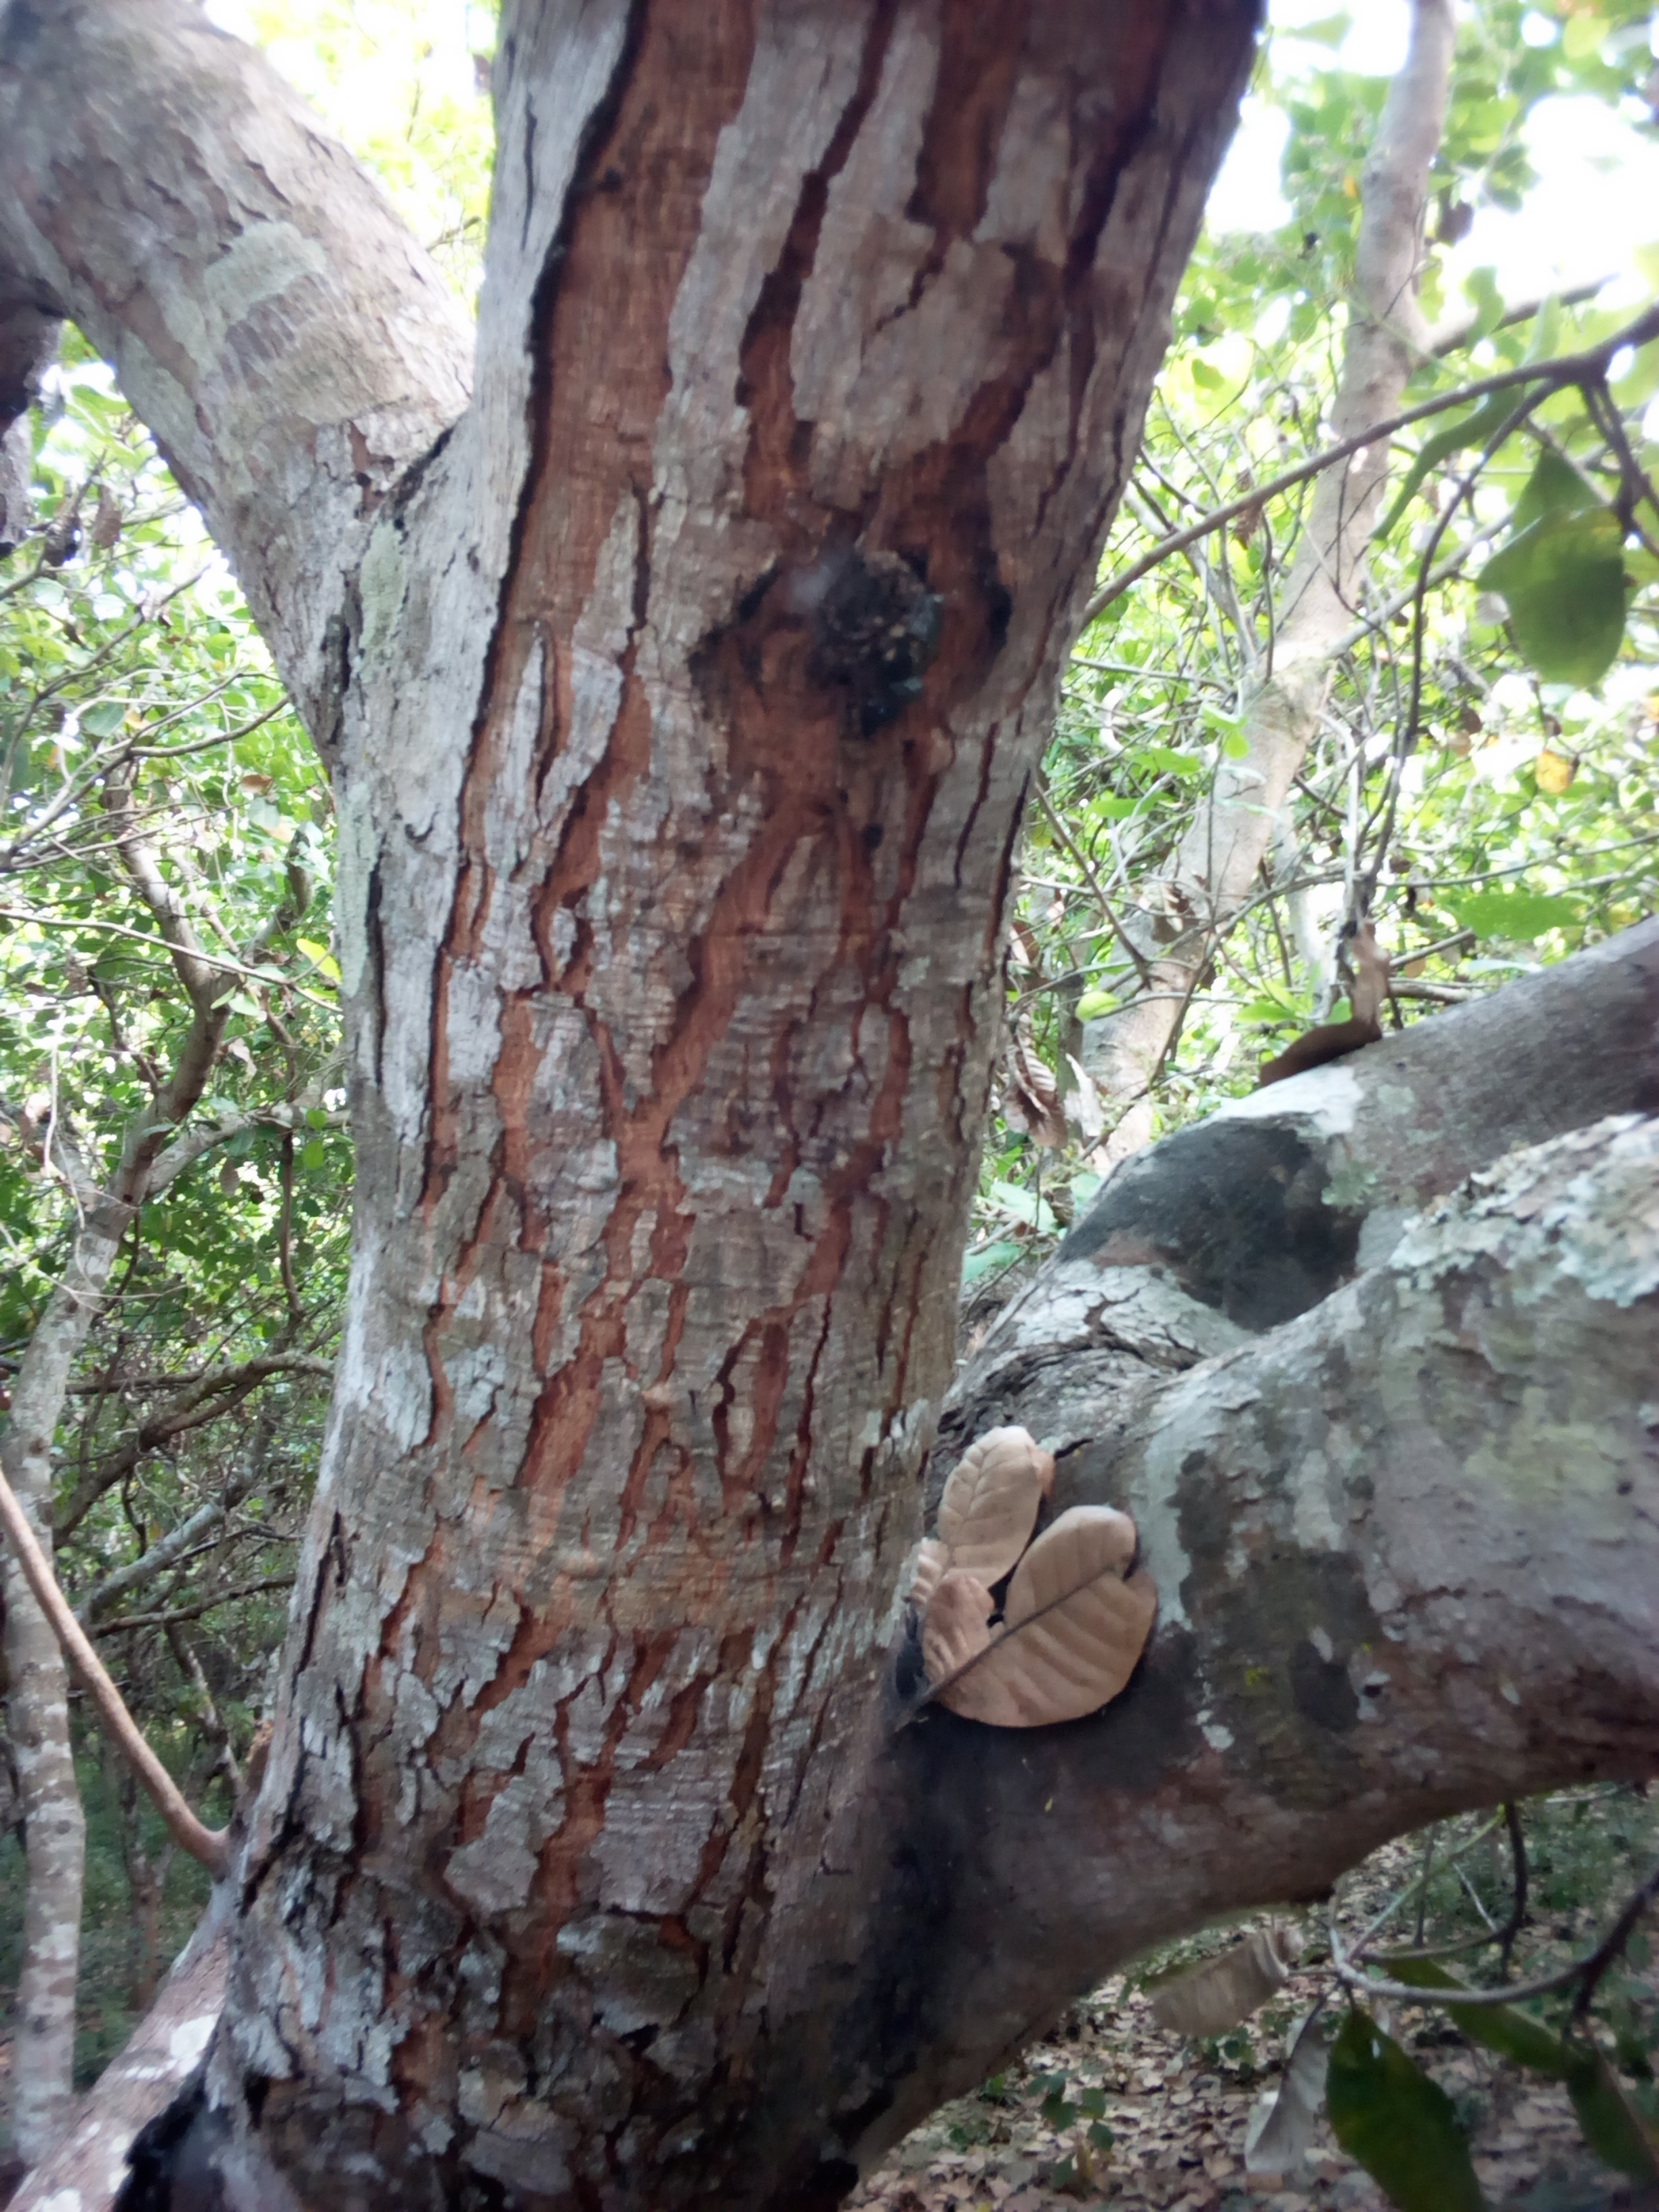ploceadorus ferrugineus: (640, 385, 1127, 956)
